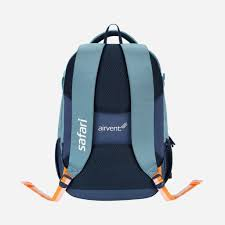backpack: (47, 16, 195, 215)
